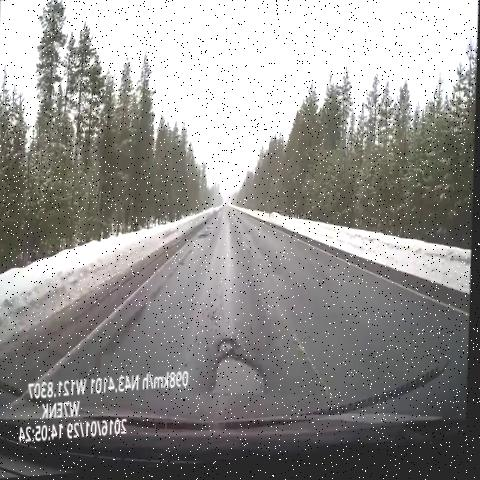pothole: (211, 324, 278, 418), (195, 222, 218, 257)
